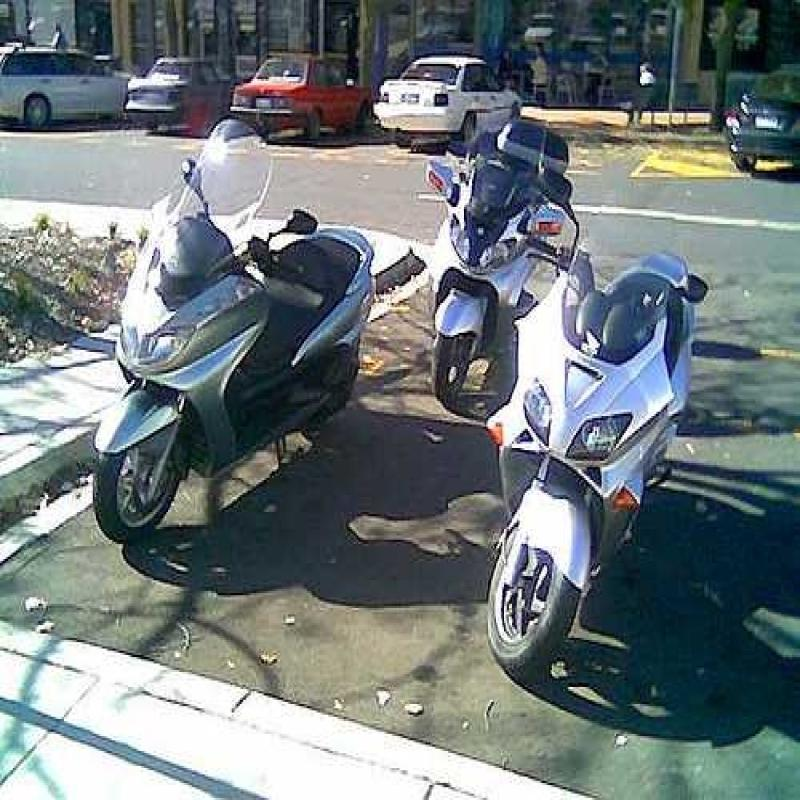bike: (82, 91, 370, 554), (491, 222, 697, 716), (420, 95, 579, 413)
